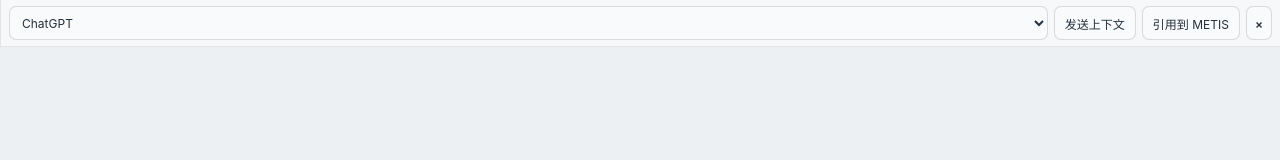
Scenario: ChatbotCollabPanel Context Bridge › sends context through clipboard + native paste; on paste failure it says so honestly
Click the button with test id "chatbot-send-context".
click(1095, 23)  # box 1054,6 -> 1136,40
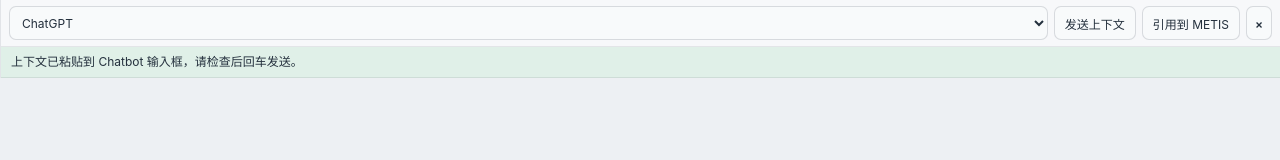
expect the message with test id "chatbot-bridge-notice" shows "已粘贴": met, box 1,47 -> 1279,78
Click the button with test id "chatbot-send-context".
click(1095, 23)  # box 1054,6 -> 1136,40
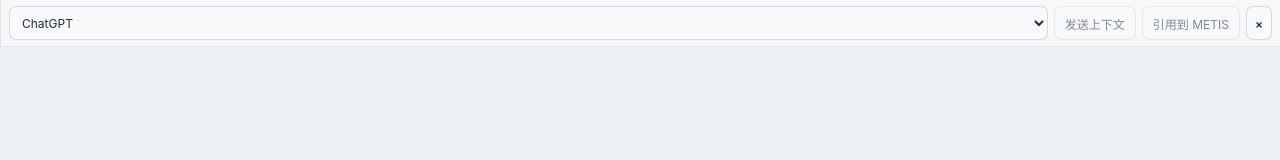
Click the button with test id "chatbot-send-context".
click(1095, 23)  # box 1054,6 -> 1136,40
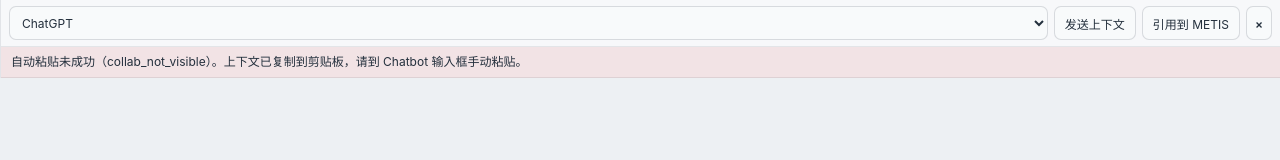
expect the message with test id "chatbot-bridge-notice" shows "自动粘贴未成功": met, box 11,54 -> 528,69
expect the message with test id "chatbot-bridge-notice" shows "剪贴板": met, box 1,47 -> 1279,78
